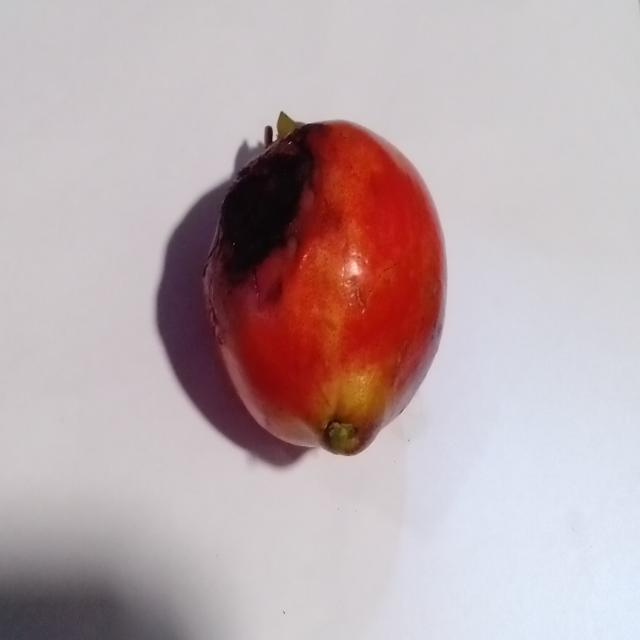Rotten: (196, 105, 450, 468)
